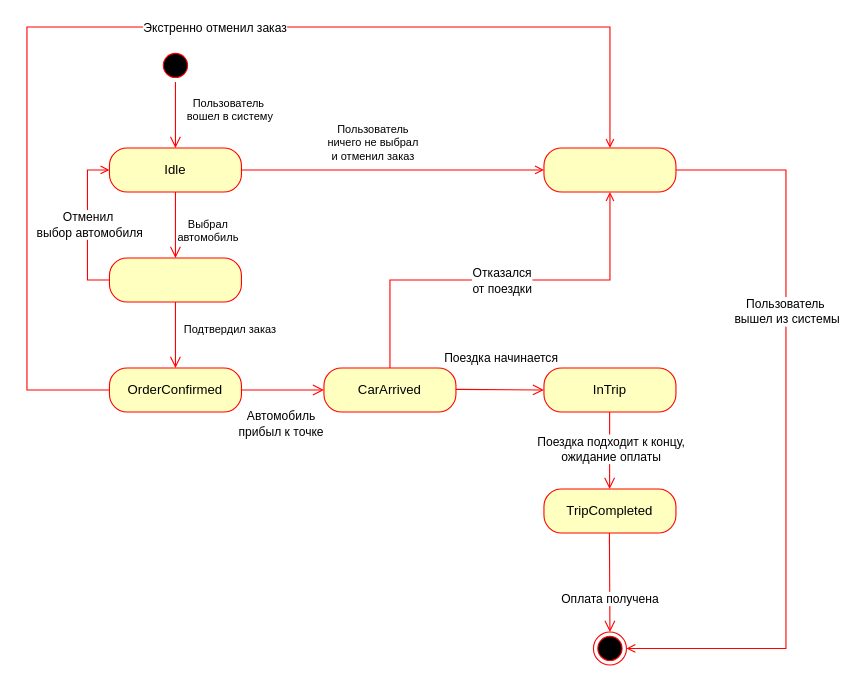
Image size: 858x684. Some labels were removed from this diagram. The centre of each missing label's shape, as x and y in pixels:
CarSelected: the point at 174,279
TripCancelled: the point at 609,169
